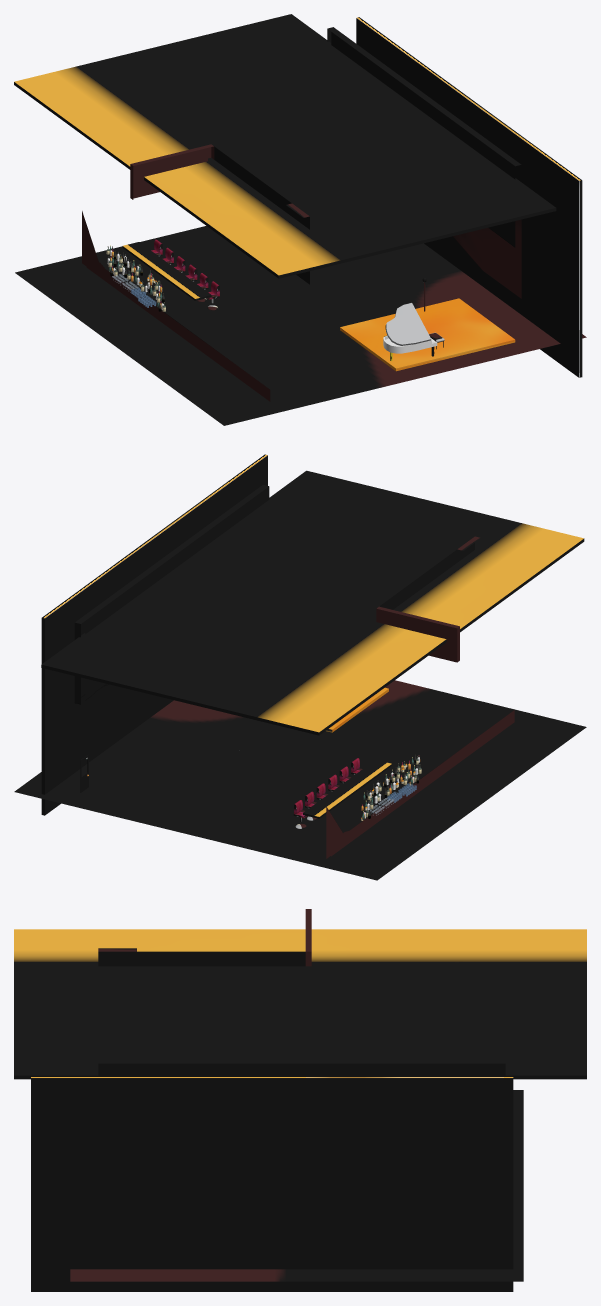
File: Bar.obj
3 views of the same model, one above another, from view 1: azimuth 30°, elevation 25°; view 2: azimuth 150°, elevation 25°; view 3: azimuth 270°, elevation 25° (orthographic). The views are drawn at different scales.
Parts seen in each view (by area): view 1: 平面; view 2: 平面; view 3: 平面.
Boxes of the visible parts, bbox=[...] form: 平面: bbox=[14, 14, 586, 425]; 平面: bbox=[14, 454, 586, 880]; 平面: bbox=[14, 909, 586, 1291].
Bounding box in the file's own units: 235 × 122 × 298.
